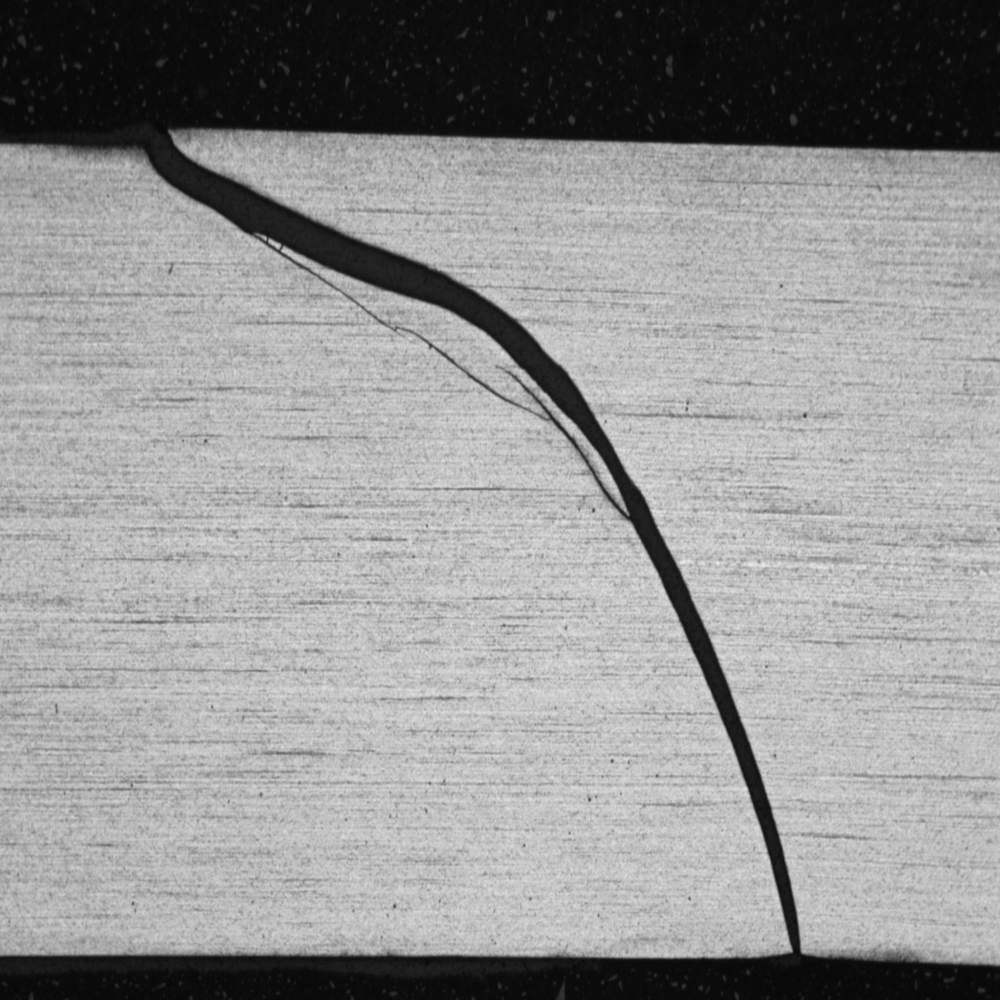crack: (123, 115, 825, 961)
